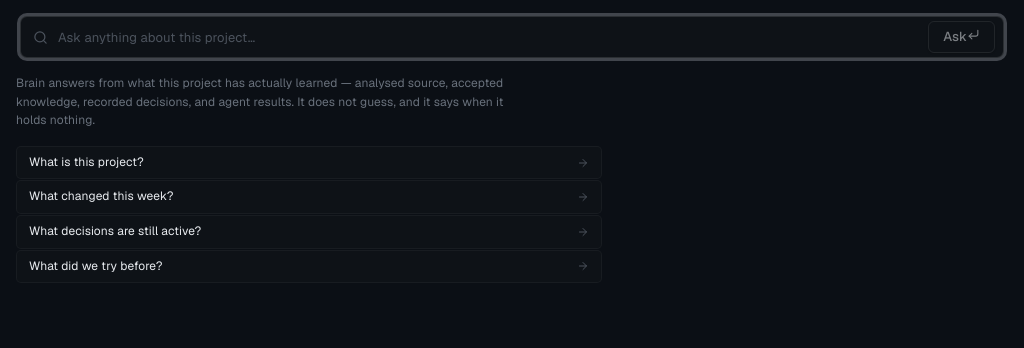
Test: BrainAsk › reports a failed question instead of showing an empty answer
Type "What is this project?" into the search field.
click(488, 37); type("What is this project?")  # box top-left (56, 17), bottom-right (920, 57)
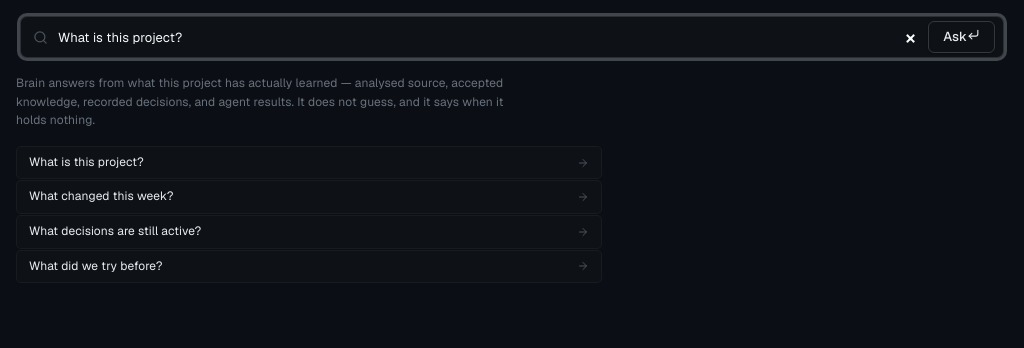
Click the button "Ask".
click(962, 37)  # box top-left (928, 21), bottom-right (995, 53)
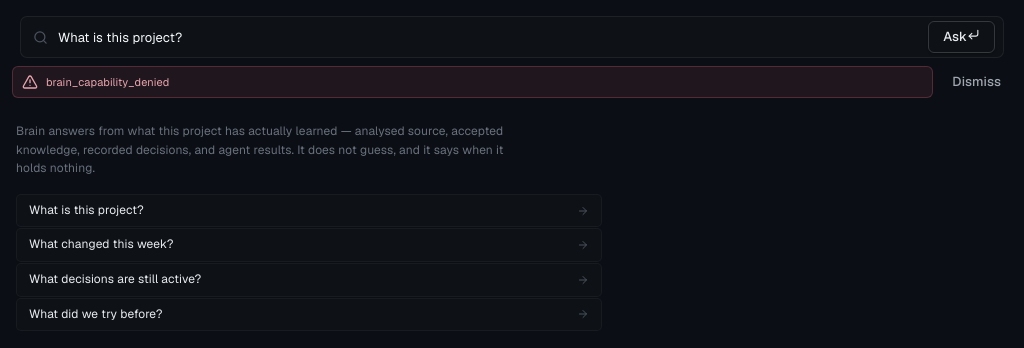
Check: the text "brain_capability_denied" is shown, box top-left (46, 75), bottom-right (169, 89)
